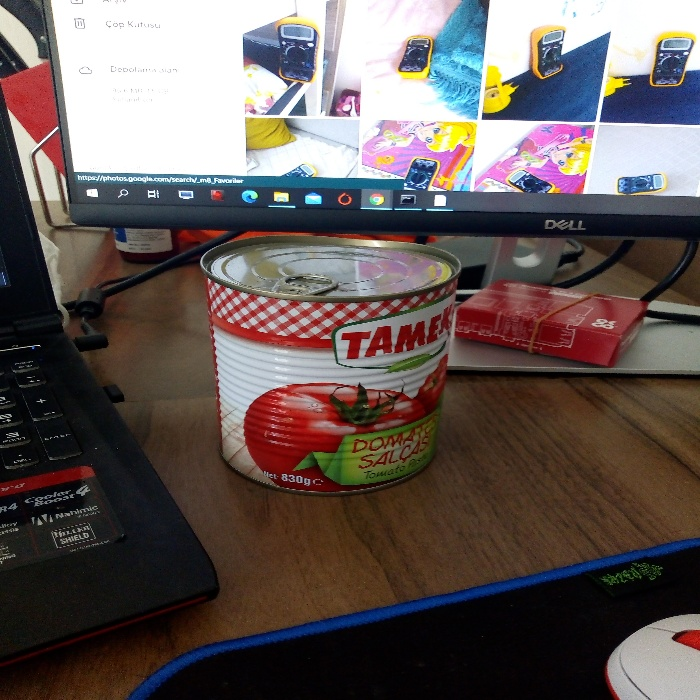salca: (160, 219, 487, 493)
